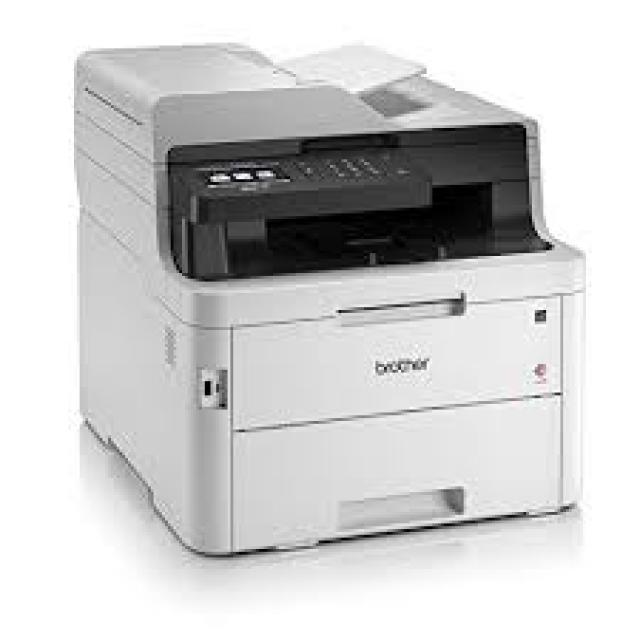printer: (71, 37, 586, 557)
